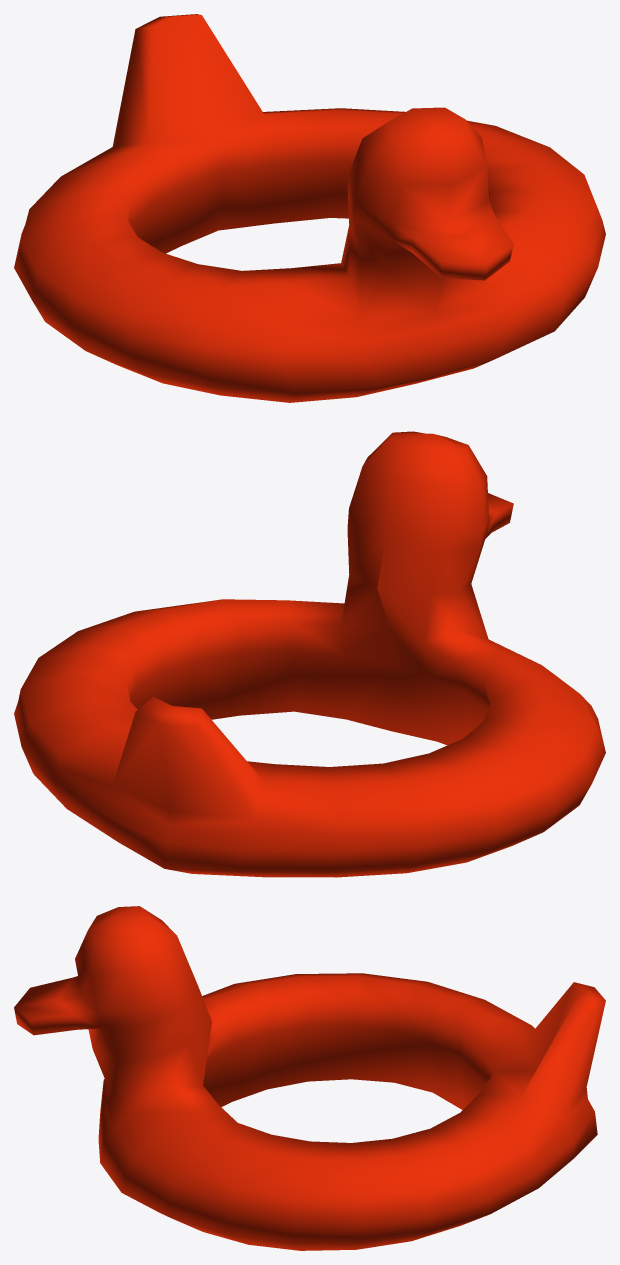
The model's file is FlotaFlota.fbx.
The picture shows the model from 3 angles, top to bottom: view 1: azimuth 30°, elevation 25°; view 2: azimuth 150°, elevation 25°; view 3: azimuth 270°, elevation 25°; orthographic projection. The views are drawn at different scales.
Parts seen in each view (by area): view 1: DuckFloater; view 2: DuckFloater; view 3: DuckFloater.
Boxes of the visible parts, box(x1,y1,x2,y2) form: DuckFloater: box(14, 14, 605, 402); DuckFloater: box(14, 431, 605, 877); DuckFloater: box(14, 906, 605, 1250).
Bounding box in the file's own units: 105 × 52.26 × 113.
